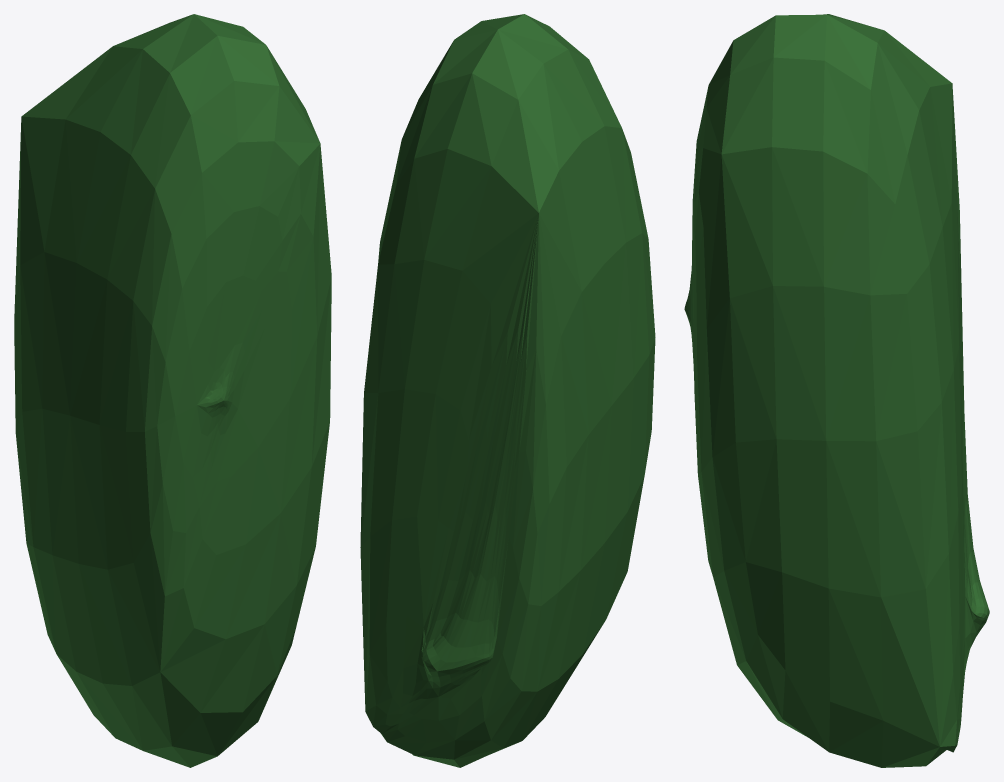
3 renders of one model, left to right at view 1: azimuth 30°, elevation 25°; view 2: azimuth 150°, elevation 25°; view 3: azimuth 270°, elevation 25°, orthographic. The views are drawn at different scales.
Parts seen in each view (by area): view 1: 750_Cube.3014; view 2: 750_Cube.3014; view 3: 750_Cube.3014.
Boxes of the visible parts, <box> form: 750_Cube.3014: <box>14,14,331,767</box>; 750_Cube.3014: <box>360,14,655,767</box>; 750_Cube.3014: <box>684,14,989,767</box>.
Bounding box in the file's own units: 3.78 × 11.46 × 4.26.
